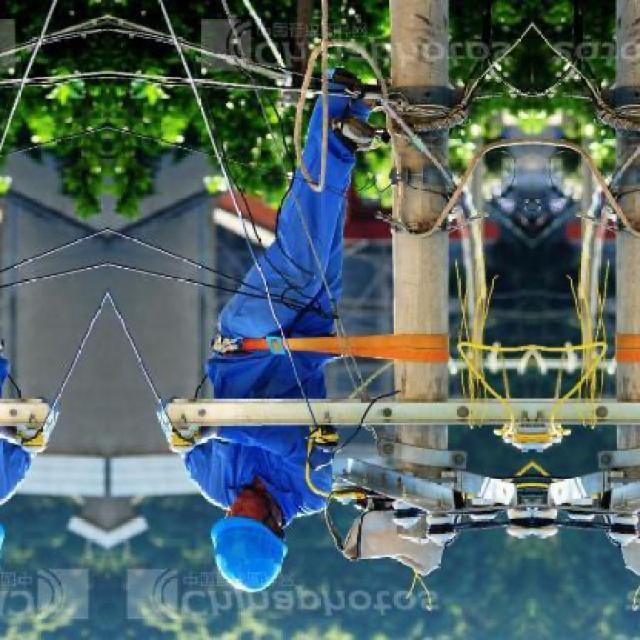con casco: (193, 474, 297, 603)
